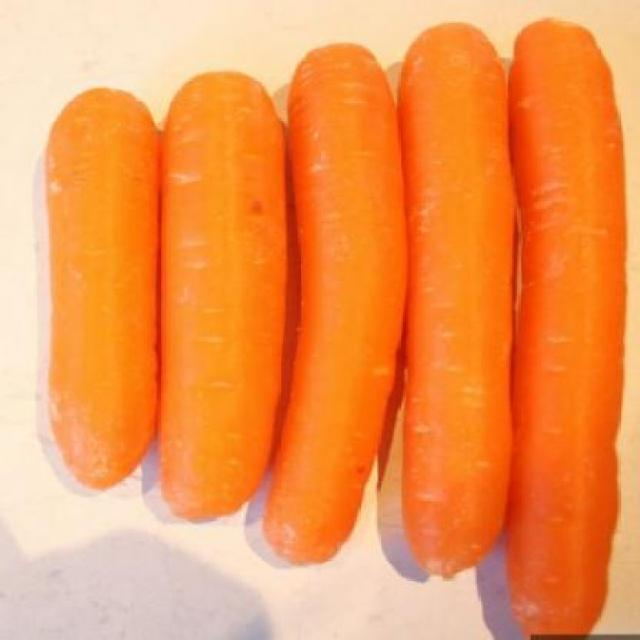carrot: (276, 38, 407, 598), (514, 15, 630, 640), (395, 17, 517, 583), (154, 68, 276, 530), (40, 80, 158, 494)
